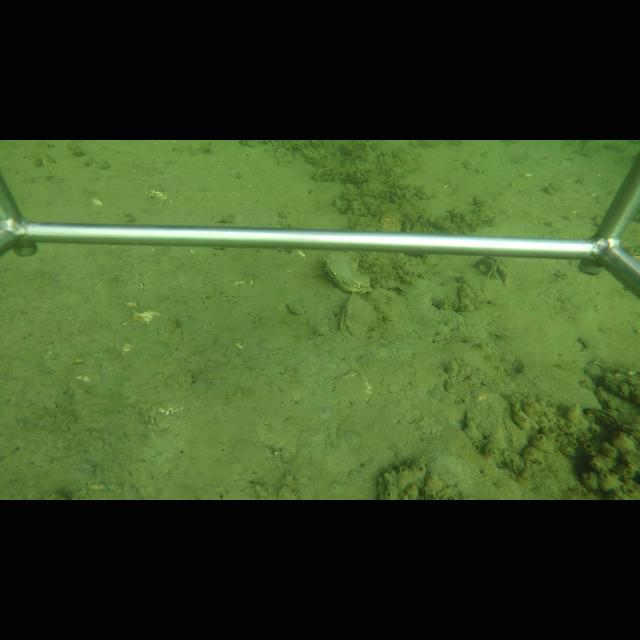Oyster-Closed: (322, 250, 374, 295), (339, 295, 385, 344), (583, 406, 636, 435)
Oyster-Open: (469, 256, 511, 291)
